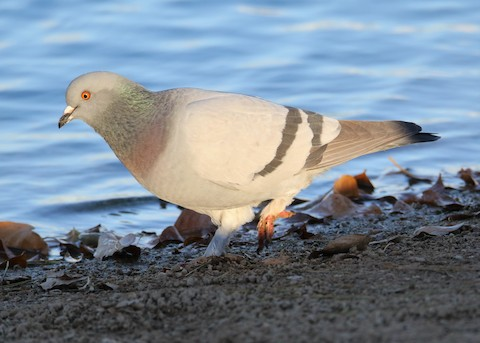pigeon: (52, 68, 447, 264)
